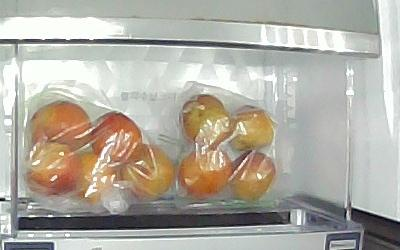prune_vinyl: (116, 145, 174, 202), (29, 102, 91, 154), (24, 145, 82, 200), (85, 112, 143, 166), (178, 147, 233, 199), (178, 93, 229, 146), (227, 151, 277, 201), (224, 106, 277, 152), (78, 153, 116, 205)
